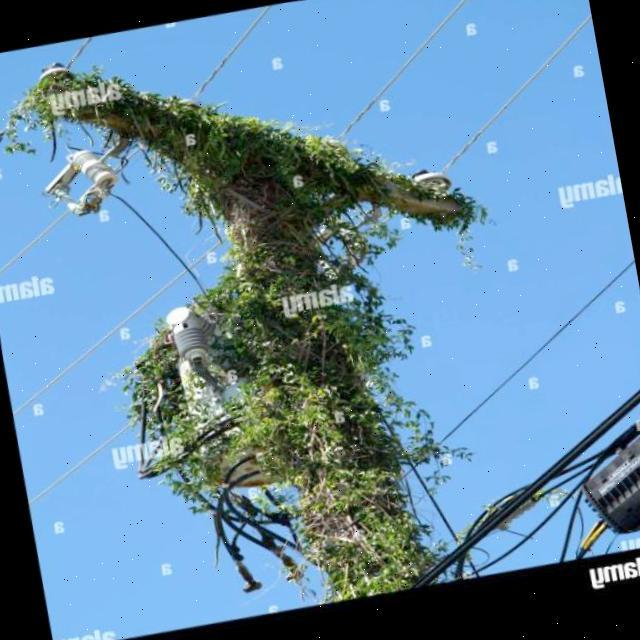critical vegetation: (99, 66, 520, 583)
